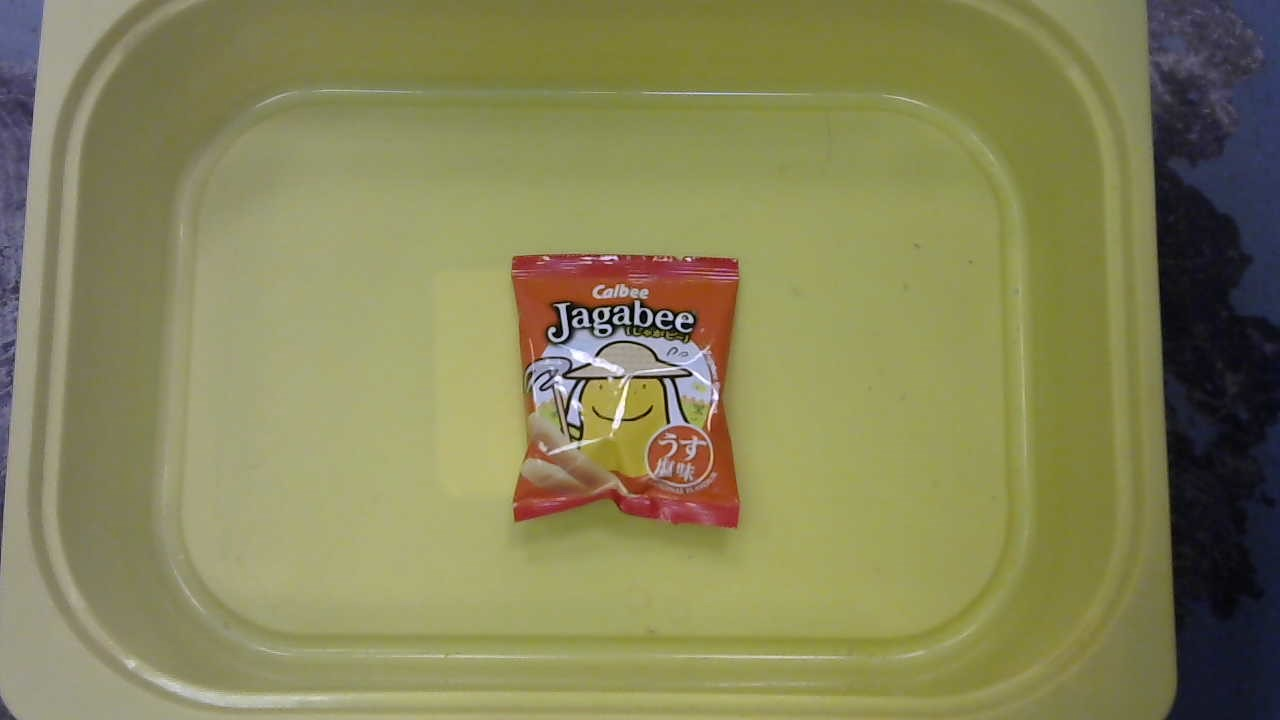JagabeeFarmer: (499, 246, 746, 531)
